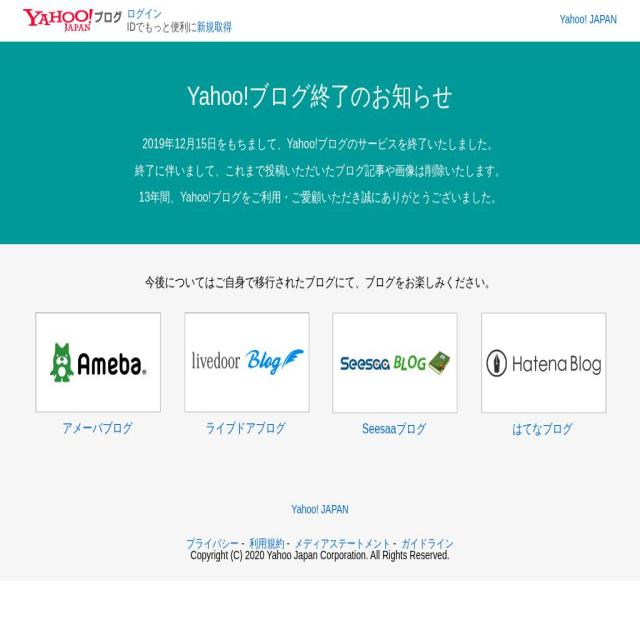button: (23, 0, 122, 42)
heading: (0, 75, 640, 117)
image: (332, 312, 458, 413), (481, 312, 606, 413), (36, 312, 160, 413), (184, 312, 309, 412)
link: (294, 536, 392, 550), (206, 420, 286, 435), (62, 421, 132, 436), (362, 421, 426, 436), (513, 421, 573, 436), (559, 12, 617, 26), (292, 502, 349, 516), (187, 536, 240, 550), (401, 536, 454, 550), (249, 536, 284, 550), (127, 7, 162, 20), (197, 20, 232, 33)
text: (0, 269, 640, 296), (135, 164, 505, 178), (139, 190, 502, 204), (142, 137, 497, 151), (190, 548, 449, 562), (127, 20, 197, 33), (239, 536, 250, 550), (391, 536, 402, 550), (284, 536, 294, 550)
